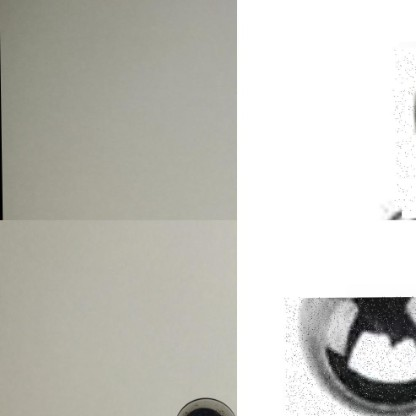ironball: (283, 296, 415, 415), (177, 392, 234, 416)
